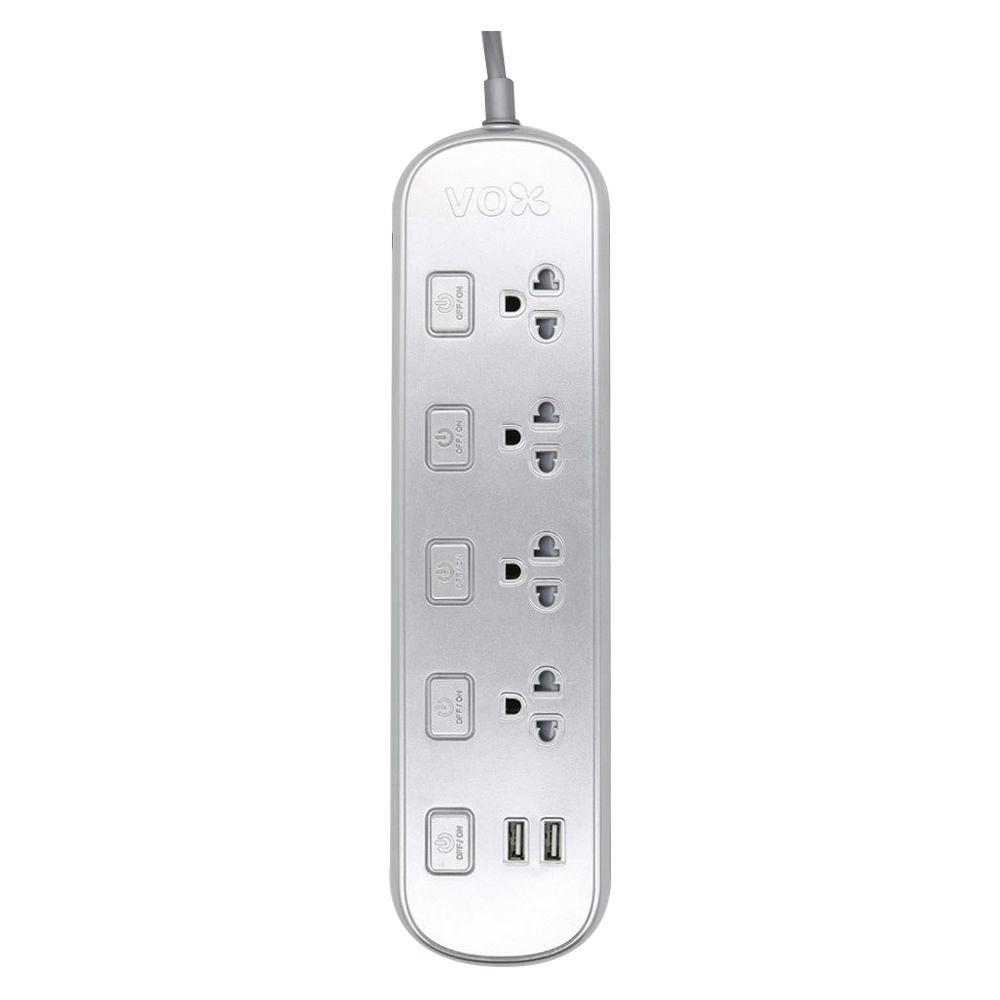Three_eye_plug: (369, 114, 623, 973)
